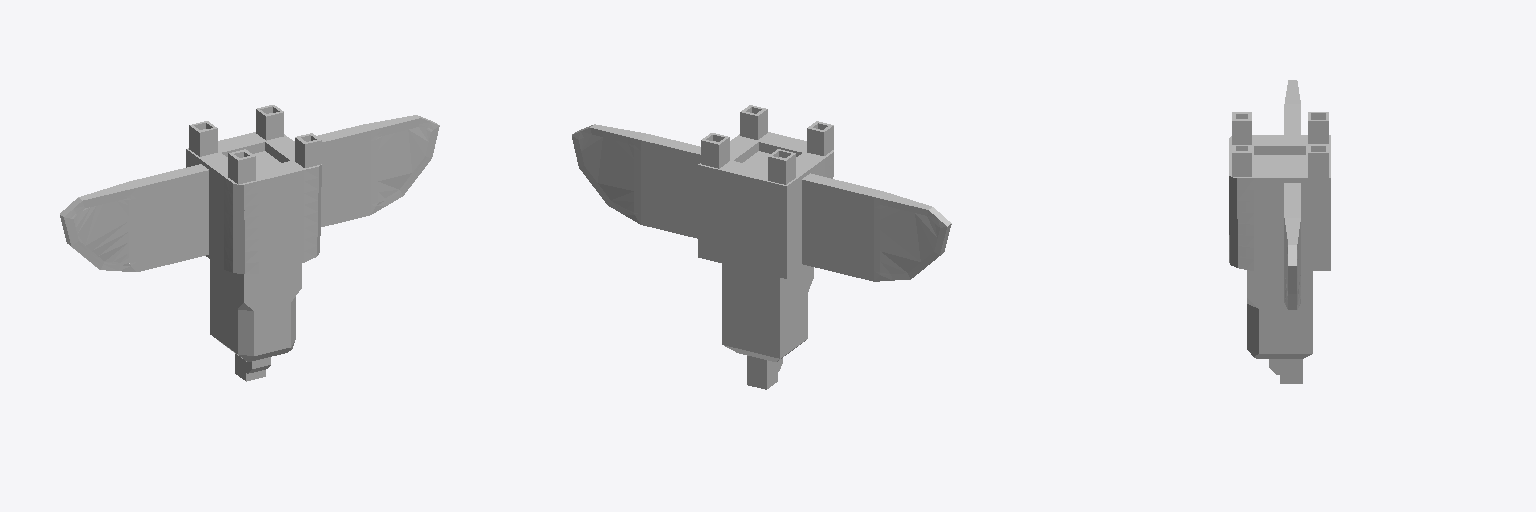
File: spaceShip.obj
3 renders of one model, left to right at view 1: azimuth 30°, elevation 25°; view 2: azimuth 150°, elevation 25°; view 3: azimuth 270°, elevation 25°, orthographic.
Visible parts, largest first — view 1: Cube; view 2: Cube; view 3: Cube.
Part boxes in pixels (x1,y1,x2,y2): Cube: (60, 105, 439, 381); Cube: (572, 105, 951, 389); Cube: (1229, 80, 1330, 383).
Size of the model in its own units: 8.47 by 5.31 by 2.